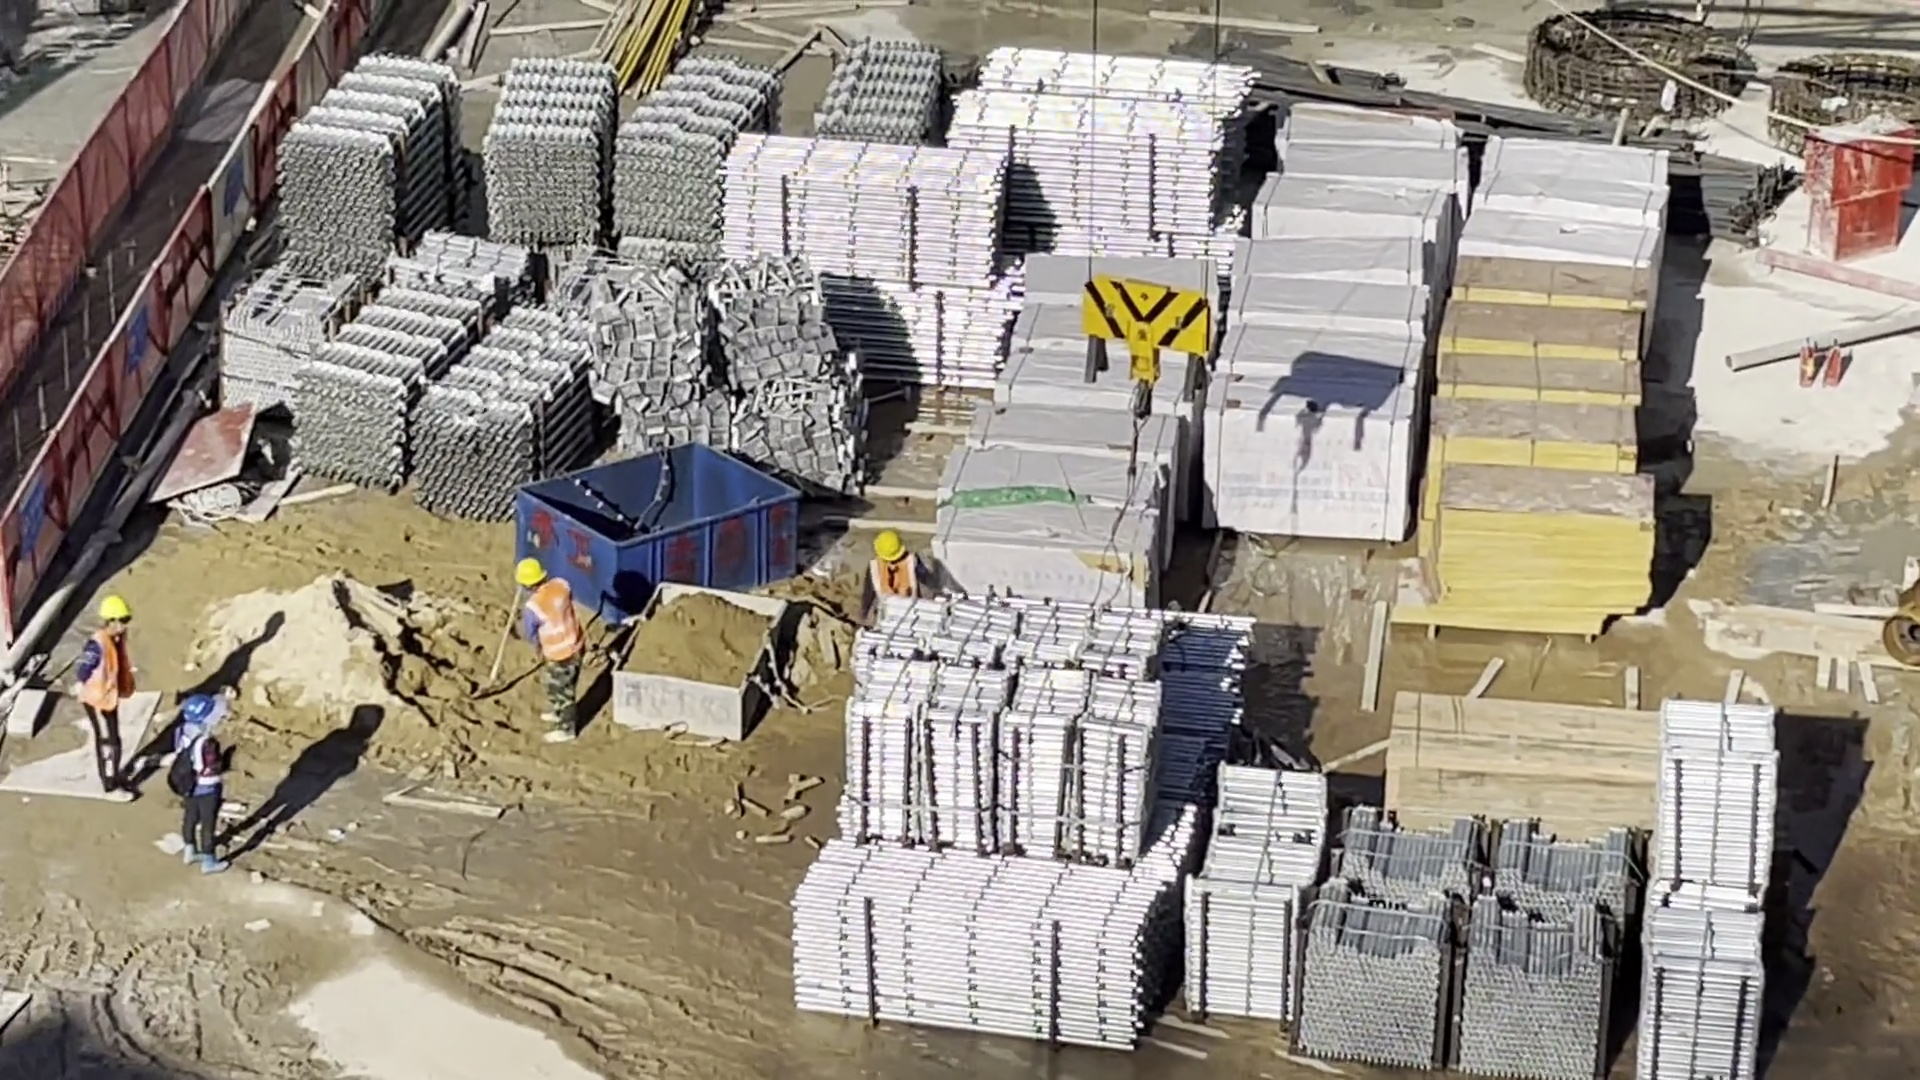fence: (3, 5, 365, 619)
helmet: (508, 545, 552, 598), (95, 577, 135, 632), (172, 690, 214, 722), (873, 528, 907, 561)
hook: (1057, 246, 1195, 391)
hopper: (507, 426, 808, 588), (615, 568, 783, 699)
person: (500, 554, 618, 779), (60, 588, 150, 799), (177, 684, 234, 880), (858, 520, 934, 613)
scaffold: (782, 602, 1314, 1048), (1349, 784, 1625, 1080), (732, 140, 996, 387), (327, 233, 543, 506), (491, 42, 720, 264), (982, 44, 1225, 252), (1658, 692, 1768, 1080), (307, 31, 472, 263), (834, 19, 959, 191)
vest: (523, 596, 586, 653), (81, 630, 129, 695), (853, 556, 925, 590)
